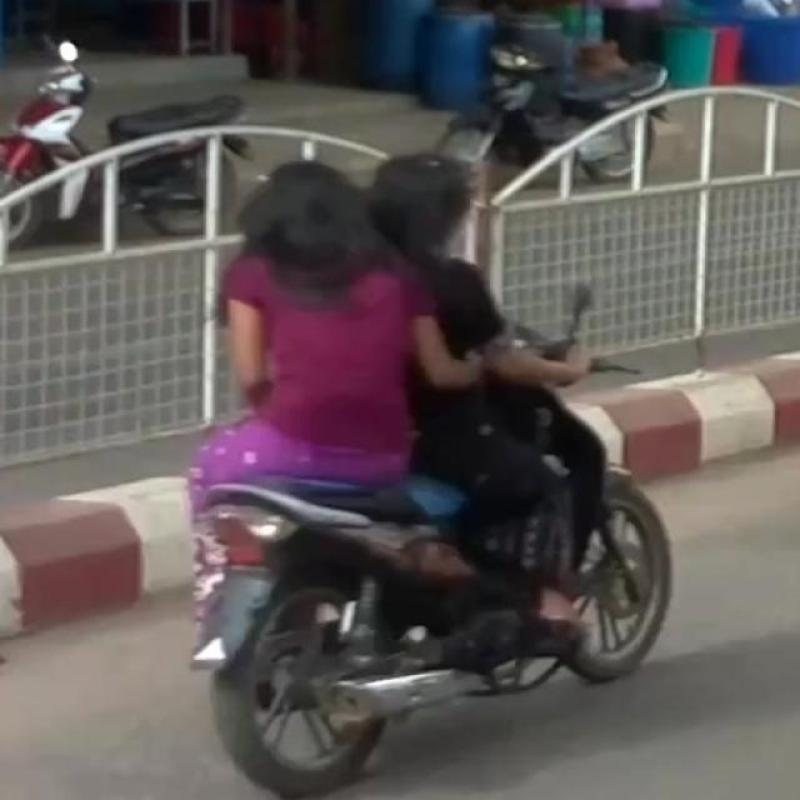nohelmet: (223, 162, 395, 316)
